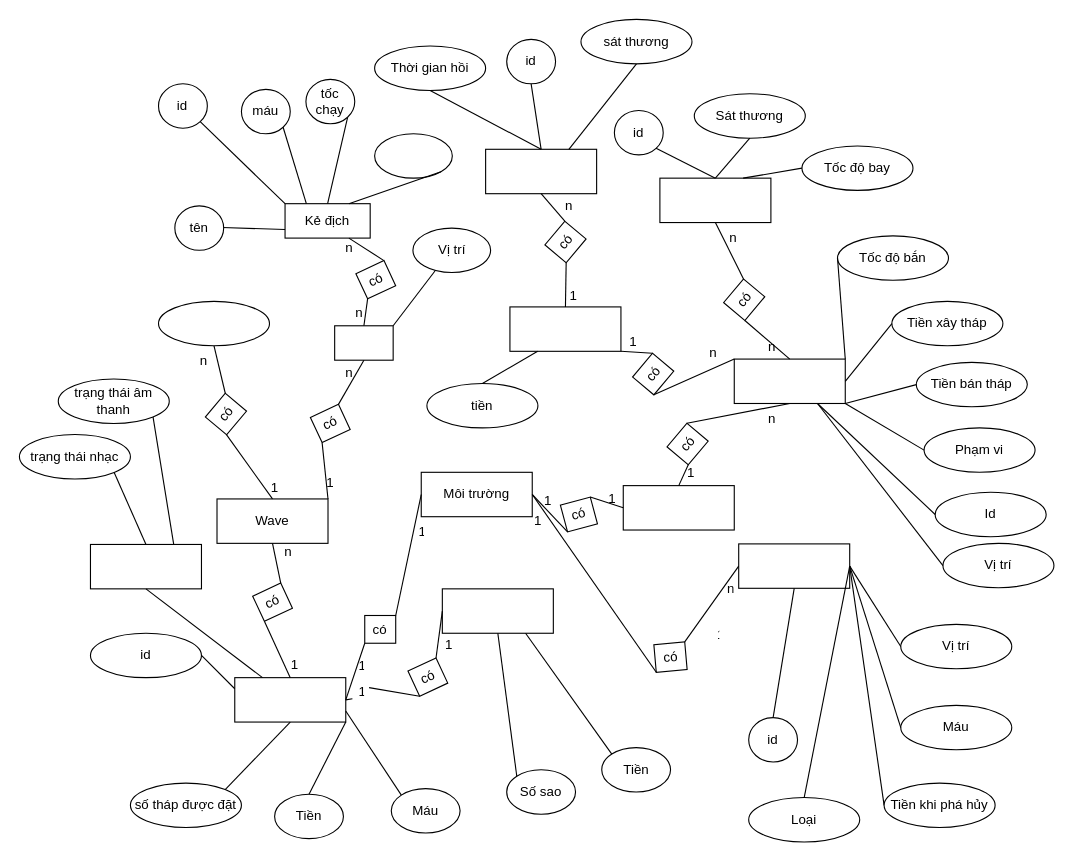
This 1073x861 diagram has some shape labels left out. Each missing label, with the centre of its shape:
Bullet: the point at 715,200
Chướng ngại vật: the point at 794,565
Cổng: the point at 363,342
GameManager: the point at 145,566
Hỗ trợ: the point at 541,171
Màn chơi: the point at 290,699
Mặt đất: the point at 678,507
Phần thưởng: the point at 497,610
sát thương lên căn cứ: the point at 413,155
Tháp: the point at 789,380
Upgrade: the point at 565,328
đường đi: the point at 213,323
